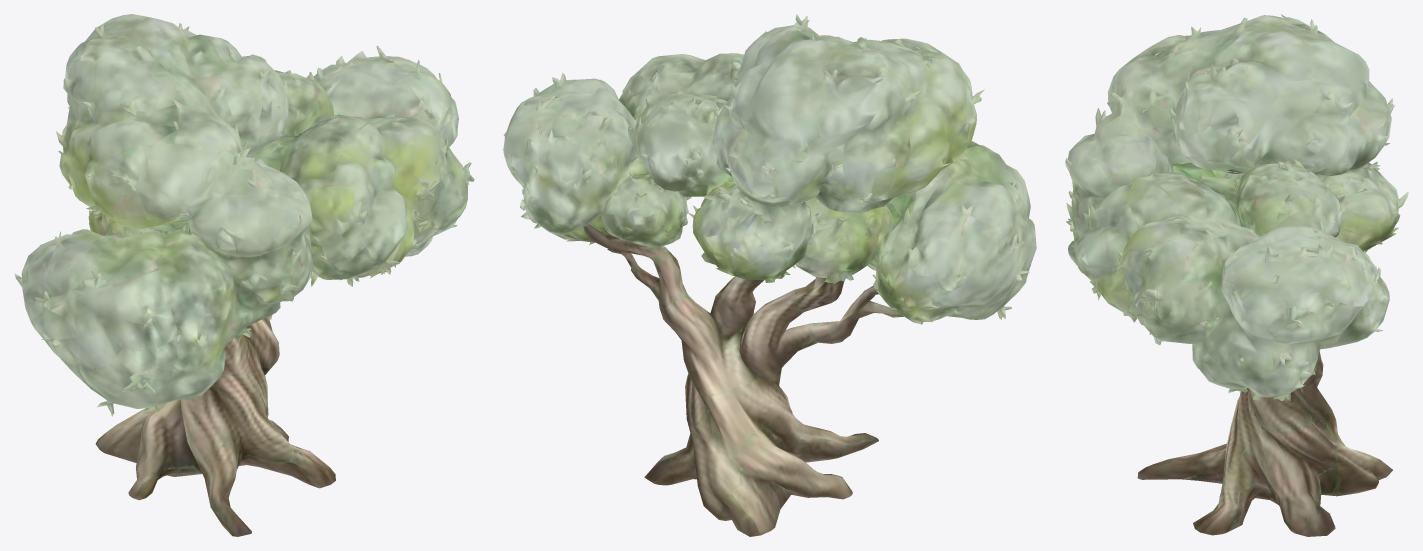
Rendered from olive.glb.
3 views of the same model, side by side, from view 1: azimuth 30°, elevation 25°; view 2: azimuth 150°, elevation 25°; view 3: azimuth 270°, elevation 25° (orthographic). The views are drawn at different scales.
Size of the model in its own units: 1.89 by 1.79 by 1.28.
1 material, 1 textured.
